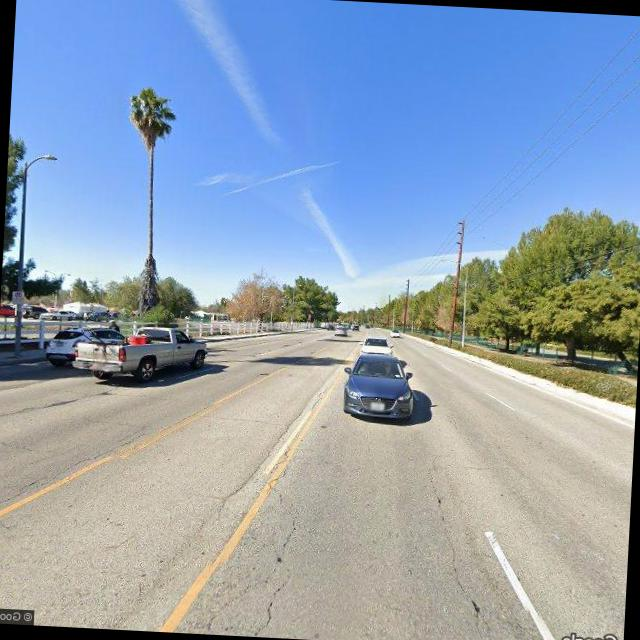crack: (0, 420, 149, 524), (417, 454, 497, 640), (220, 394, 310, 512), (265, 419, 314, 626)
